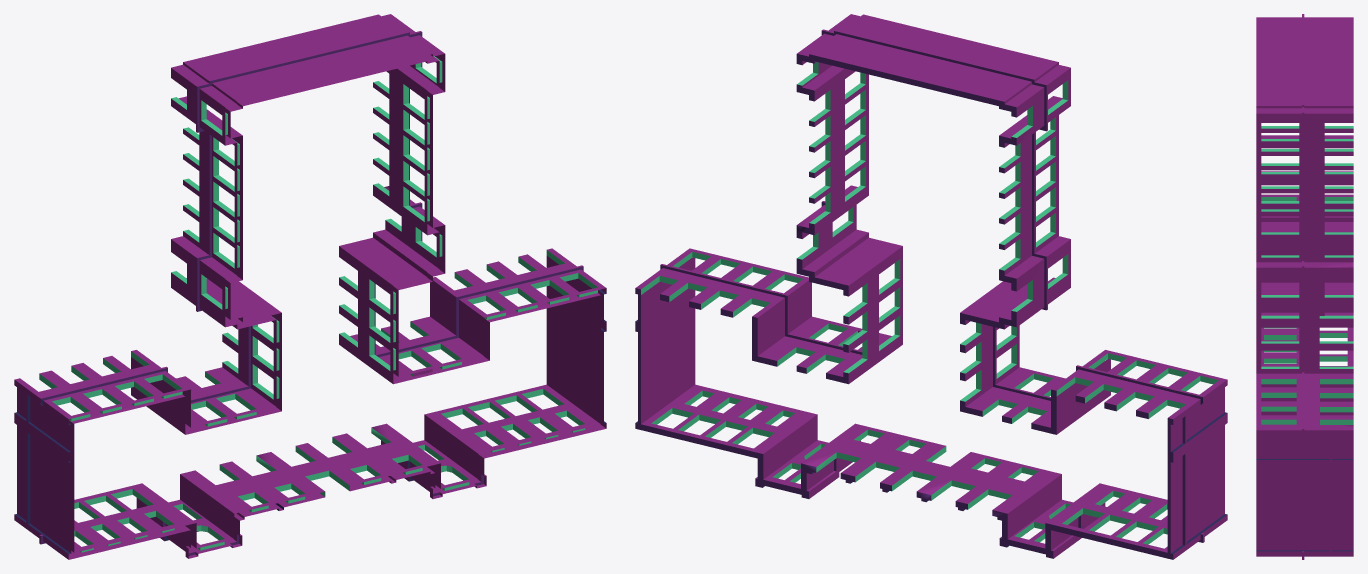
The model's file is Samochodówka Tier 2.fbx.
3 views of the same model, side by side, from view 1: azimuth 30°, elevation 25°; view 2: azimuth 150°, elevation 25°; view 3: azimuth 270°, elevation 25° (orthographic). The views are drawn at different scales.
Parts seen in each view (by area): view 1: samochodowka_cz2; view 2: samochodowka_cz2; view 3: samochodowka_cz2.
Boxes of the visible parts, bbox=[...] form: samochodowka_cz2: bbox=[14, 14, 606, 559]; samochodowka_cz2: bbox=[635, 14, 1227, 559]; samochodowka_cz2: bbox=[1256, 14, 1353, 559].
Bounding box in the file's own units: 4.09 × 3.23 × 0.7089.
